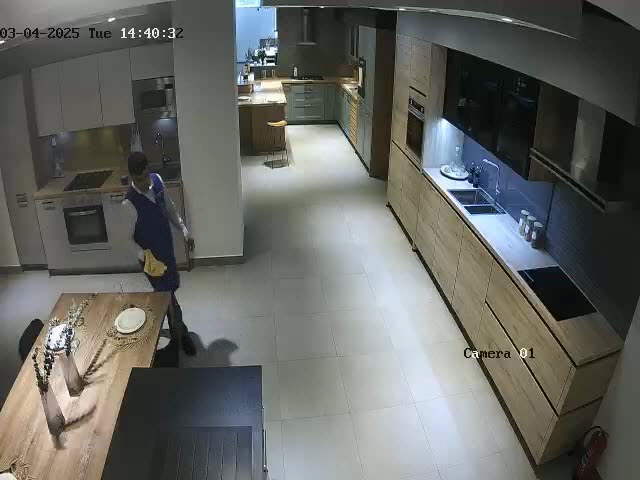employee: (122, 151, 197, 361)
